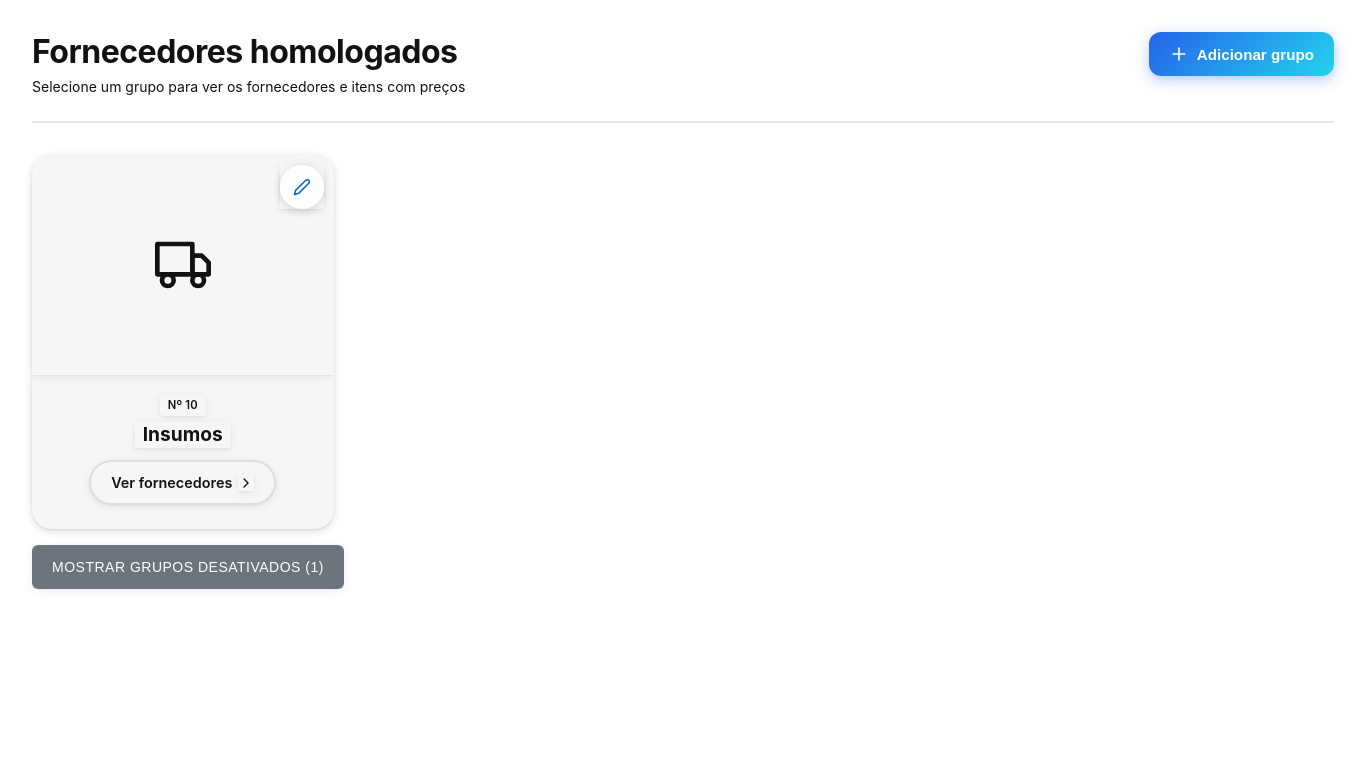
Test: GruposFornecedores — RN-103.06 grupos desativados e Reativar › pede incluir_inativos; a grade mostra so o ativo; o botao abre a secao com selo "Desativado"
This screenshot has width=1366, height=768.
Click the button with test id "toggle-desativados" at [188, 567], box [32, 545, 344, 589]
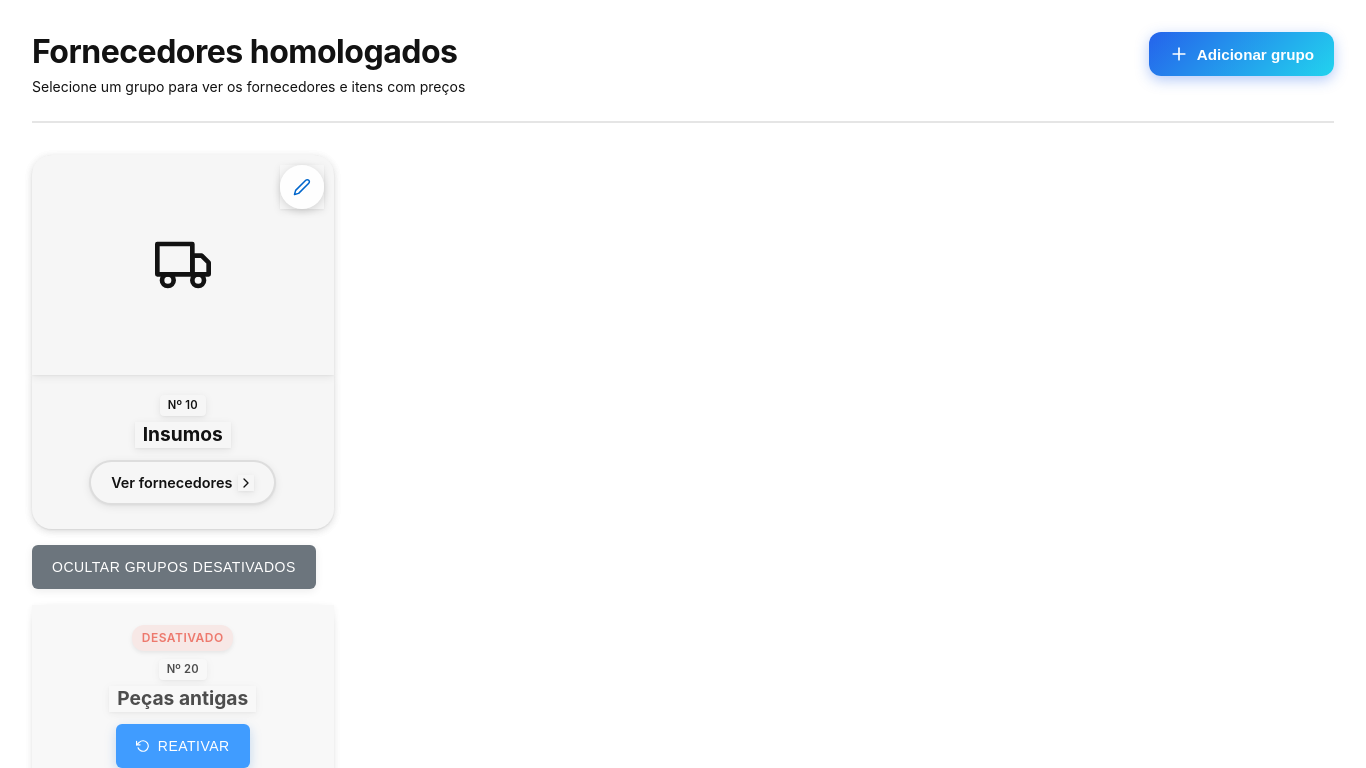
Result: the element with test id "grupos-desativados" shows "Peças antigas" at [117, 686, 248, 710]
Result: the element with test id "grupos-desativados" shows "Desativado" at [142, 630, 224, 645]
Result: the button with test id "toggle-desativados" reads "Ocultar grupos desativados" at [32, 545, 316, 589]
